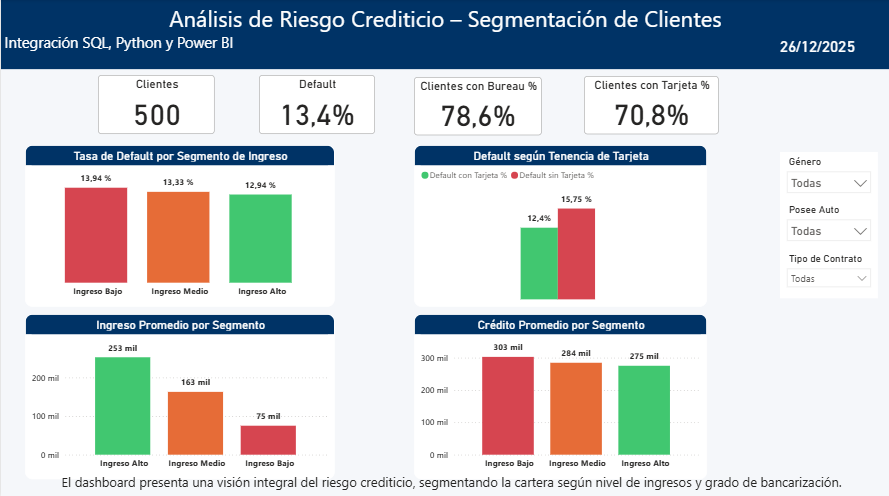

The page's visual inventory and layout, read from the dashboard file:
{"tool":"powerbi","page":{"name":"Análisis de Riesgo Crediticio","canvas":[1280,720],"ordinal":0},"visuals":[{"type":"textbox","box":[0,0,1280.2,100.8],"z":0},{"type":"card","fields":{"Values":["dataset_riesgo_final.Fecha Actual"]},"box":[1071.4,51.8,208.8,31.7],"z":1000},{"type":"card","title":"Clientes","fields":{"Values":["dataset_riesgo_final.Clientes"]},"box":[139.7,109.4,168.5,85],"z":2000},{"type":"card","title":"Default","fields":{"Values":["dataset_riesgo_final.Tasa Default %"]},"box":[371.5,109.4,167,85],"z":3000},{"type":"card","title":"Clientes con Bureau %","fields":{"Values":["dataset_riesgo_final.Clientes con Bureau %"]},"box":[594.7,112.3,184.3,83.5],"z":4000},{"type":"card","title":"Clientes con Tarjeta %","fields":{"Values":["dataset_riesgo_final.Clientes con Tarjeta %"]},"box":[839.5,110.9,194.4,83.5],"z":5000},{"type":"columnChart","title":"Tasa de Default por Segmento de Ingreso","fields":{"Category":["dataset_riesgo_final.Segmento Ingreso"],"Y":["dataset_riesgo_final.Default %"]},"box":[34.6,210.2,446.4,233.3],"z":6000},{"type":"clusteredColumnChart","title":"Default según Tenencia de Tarjeta","fields":{"Y":["dataset_riesgo_final.Default con Tarjeta %","dataset_riesgo_final.Default sin Tarjeta %"]},"box":[594.7,210.2,421.9,233.3],"z":7000},{"type":"columnChart","title":"Ingreso Promedio por Segmento","fields":{"Category":["dataset_riesgo_final.Segmento Ingreso"],"Y":["dataset_riesgo_final.Ingreso Promedio"]},"box":[34.6,453.6,446.4,237.6],"z":8000},{"type":"columnChart","title":"Crédito Promedio por Segmento","fields":{"Category":["dataset_riesgo_final.Segmento Ingreso"],"Y":["dataset_riesgo_final.Crédito Promedio"]},"box":[594.7,453.6,421.9,237.6],"z":9000},{"type":"slicer","fields":{"Values":["dataset_riesgo_final.CODE_GENDER"]},"box":[1121.8,220.3,141.1,70.6],"z":10000},{"type":"slicer","fields":{"Values":["dataset_riesgo_final.FLAG_OWN_CAR"]},"box":[1121.8,289.4,141.1,70.6],"z":11000},{"type":"slicer","fields":{"Values":["dataset_riesgo_final.NAME_CONTRACT_TYPE"]},"box":[1121.8,360,141.1,70.6],"z":12000},{"type":"textbox","box":[34.6,678.2,1228.3,41.8],"z":13000}]}

Visuals, with their boxes in screenshot pixels (x1, y1, x2, y2), scaled from the page's 1280x720 canvas onto the 889x496 screenshot:
textbox: 0,0,888,69
card - dataset_riesgo_final.Fecha Actual: 744,36,888,58
"Clientes" card: 97,75,214,134
"Default" card: 258,75,374,134
"Clientes con Bureau %" card: 413,77,541,135
"Clientes con Tarjeta %" card: 583,76,718,134
"Tasa de Default por Segmento de Ingreso" columnChart: 24,145,334,306
"Default según Tenencia de Tarjeta" clusteredColumnChart: 413,145,706,306
"Ingreso Promedio por Segmento" columnChart: 24,312,334,476
"Crédito Promedio por Segmento" columnChart: 413,312,706,476
slicer - dataset_riesgo_final.CODE_GENDER: 779,152,877,200
slicer - dataset_riesgo_final.FLAG_OWN_CAR: 779,199,877,248
slicer - dataset_riesgo_final.NAME_CONTRACT_TYPE: 779,248,877,297
textbox: 24,467,877,495
